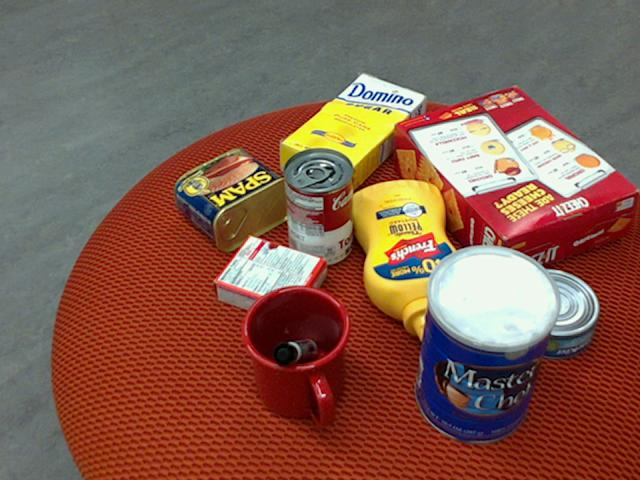cracker_box: (392, 85, 638, 281)
gelatin_box: (210, 234, 323, 329)
large_marker: (272, 339, 316, 367)
master_chef_can: (414, 247, 561, 445)
mug: (238, 286, 349, 427)
mustard_bottle: (349, 179, 463, 345)
potted_meat_can: (173, 147, 295, 252)
sugar_box: (278, 73, 425, 196)
tomato_soup_can: (283, 146, 353, 266)
tuna_fish_can: (503, 268, 599, 358)
